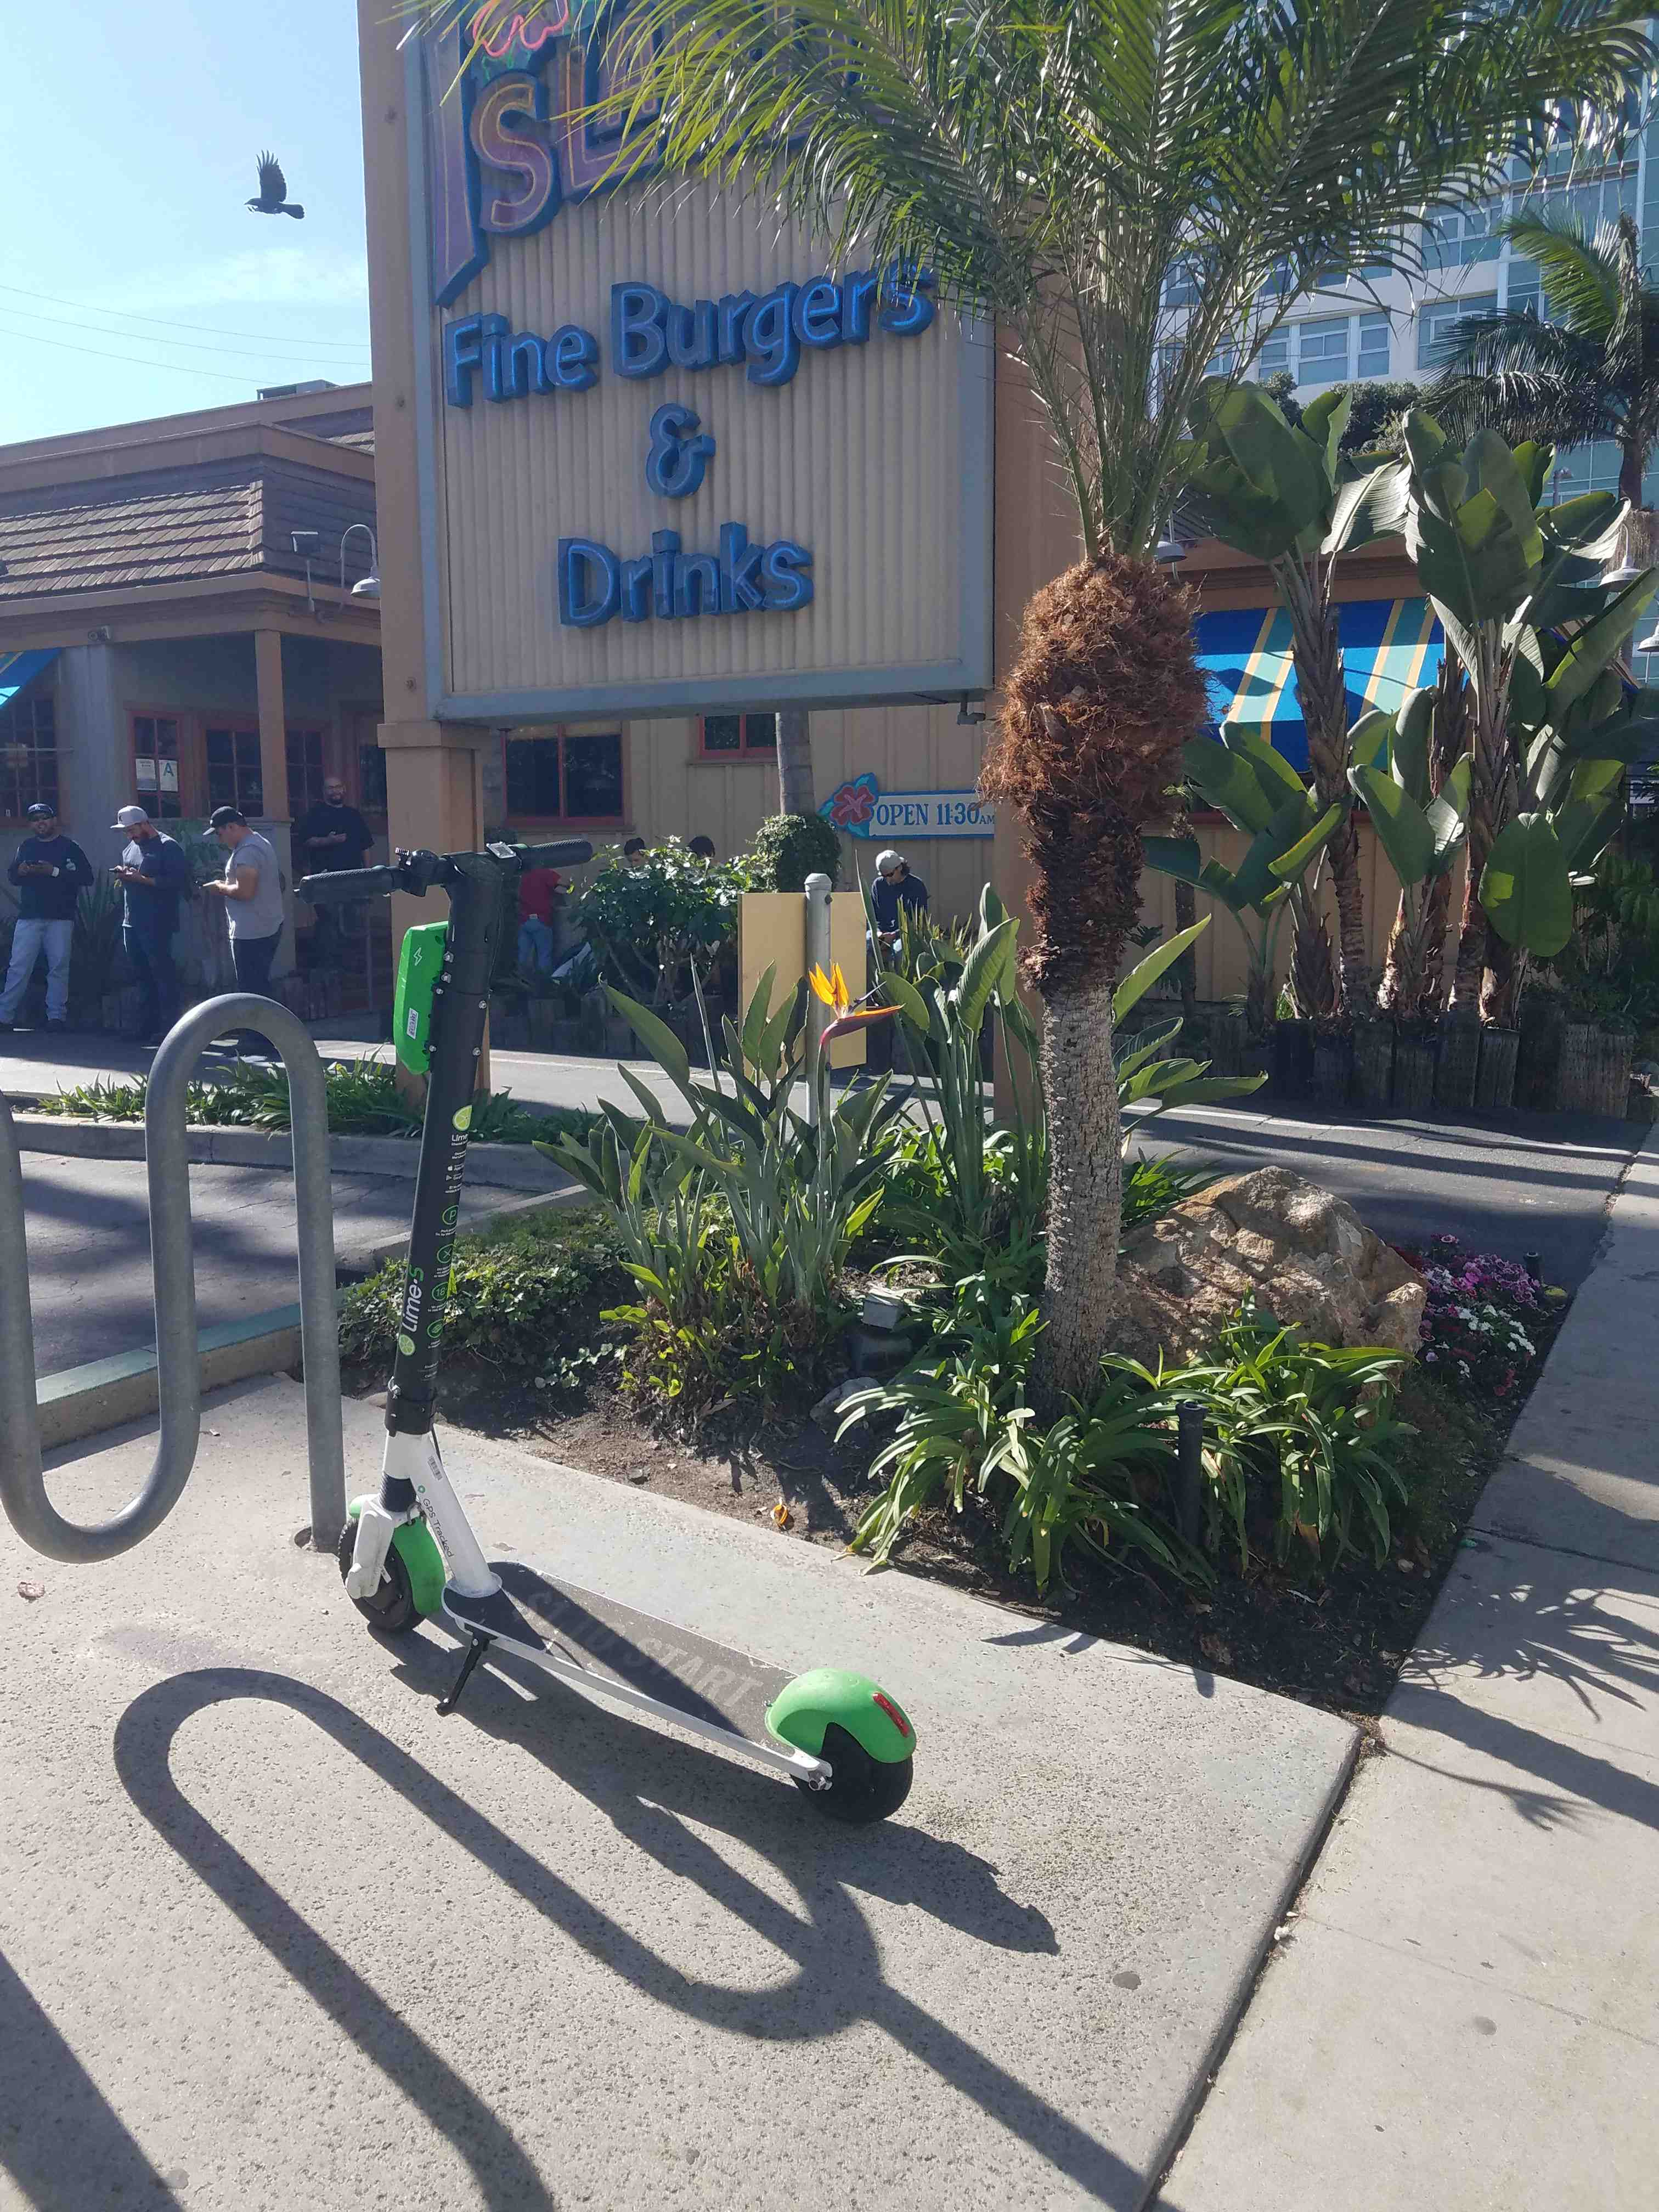scooter: (261, 787, 934, 1881)
